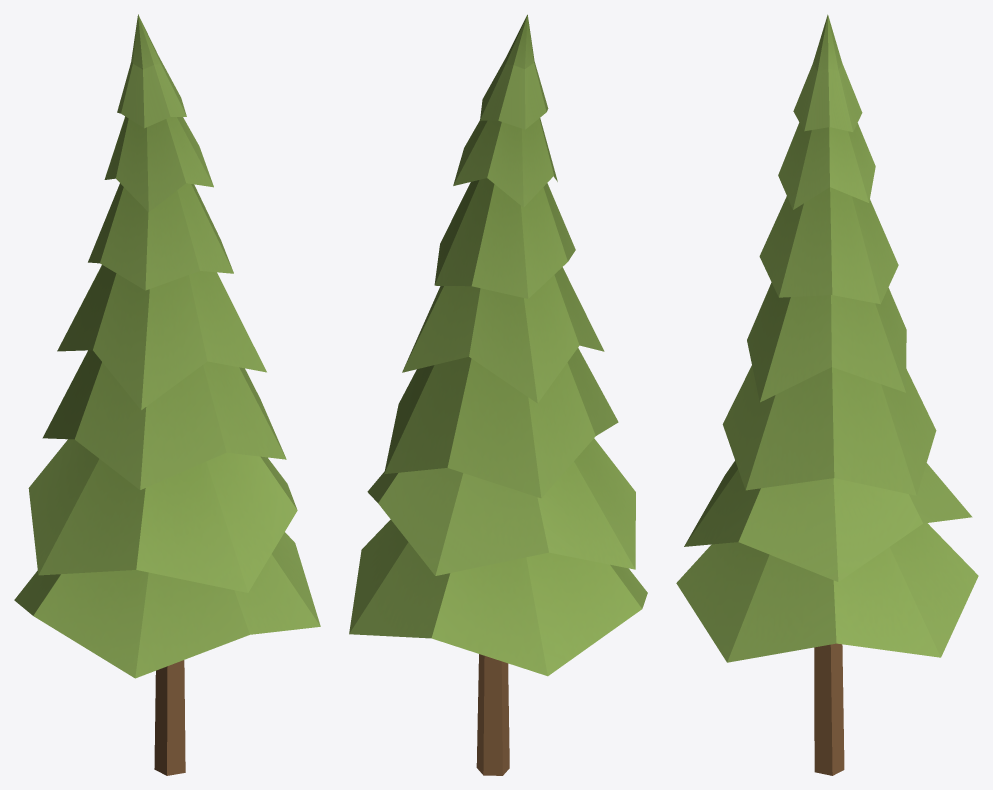
Rendered from Pine_Tree_l_04_LOD.fbx.
3 views of the same model, side by side, from view 1: azimuth 30°, elevation 25°; view 2: azimuth 150°, elevation 25°; view 3: azimuth 270°, elevation 25° (orthographic). The views are drawn at different scales.
Parts seen in each view (by area): view 1: Pine_Tree_l_04_LOD0; view 2: Pine_Tree_l_04_LOD0; view 3: Pine_Tree_l_04_LOD0.
Boxes of the visible parts, x1=… form: Pine_Tree_l_04_LOD0: x1=14, y1=14, x2=320, y2=775; Pine_Tree_l_04_LOD0: x1=349, y1=14, x2=647, y2=775; Pine_Tree_l_04_LOD0: x1=676, y1=14, x2=978, y2=775.
Size of what is drawn, in the model's own units: 671 by 1805 by 669.
